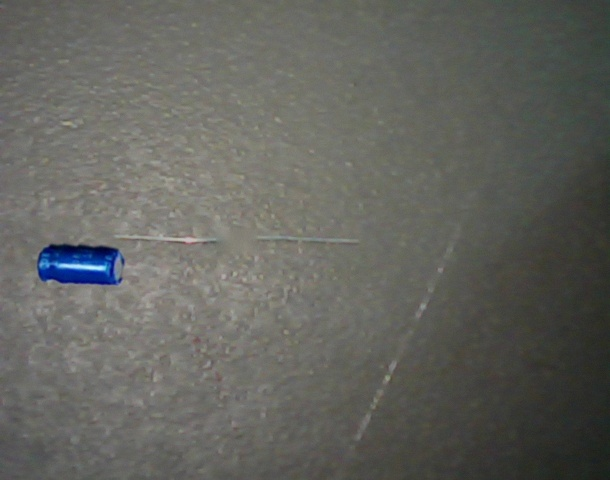capacitor: (37, 244, 125, 286)
